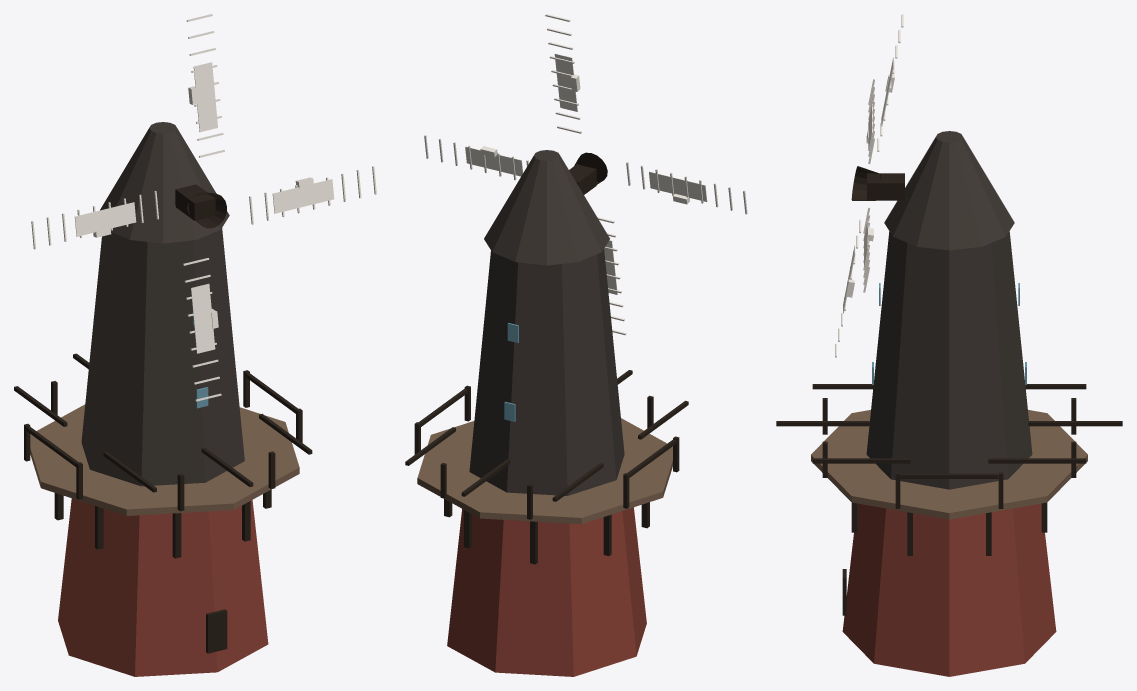
File: windmill-de-gooyer.glb
The picture shows the model from 3 angles, left to right: view 1: azimuth 30°, elevation 25°; view 2: azimuth 150°, elevation 25°; view 3: azimuth 270°, elevation 25°; orthographic projection. The views are drawn at different scales.
Parts seen in each view (by area): view 1: ThatchBody, BrickBase, GalleryFloor, CapRoof, SailsLattice, GalleryRail, GalleryStruts, ShaftHousing, MainDoor, SailHub; view 2: ThatchBody, BrickBase, GalleryFloor, CapRoof, SailsLattice, GalleryRail, GalleryStruts, ShaftHousing; view 3: ThatchBody, BrickBase, GalleryFloor, CapRoof, GalleryRail, SailsLattice, ShaftHousing, GalleryStruts, SailHub.
Part boxes in pixels (x1=…): ThatchBody: x1=81, y1=228, x2=244, y2=486; BrickBase: x1=58, y1=498, x2=268, y2=676; GalleryFloor: x1=30, y1=404, x2=299, y2=515; CapRoof: x1=100, y1=122, x2=229, y2=243; SailsLattice: x1=31, y1=14, x2=376, y2=401; GalleryRail: x1=14, y1=353, x2=312, y2=511; GalleryStruts: x1=54, y1=489, x2=271, y2=558; ShaftHousing: x1=175, y1=184, x2=215, y2=220; MainDoor: x1=206, y1=609, x2=227, y2=653; SailHub: x1=187, y1=192, x2=226, y2=228; ThatchBody: x1=469, y1=249, x2=624, y2=495; BrickBase: x1=447, y1=507, x2=646, y2=676; GalleryFloor: x1=417, y1=418, x2=672, y2=524; CapRoof: x1=484, y1=150, x2=609, y2=265; SailsLattice: x1=424, y1=14, x2=747, y2=335; GalleryRail: x1=405, y1=370, x2=688, y2=519; GalleryStruts: x1=444, y1=499, x2=649, y2=564; ShaftHousing: x1=569, y1=164, x2=596, y2=194; ThatchBody: x1=866, y1=231, x2=1032, y2=489; BrickBase: x1=842, y1=503, x2=1056, y2=676; GalleryFloor: x1=811, y1=410, x2=1087, y2=519; CapRoof: x1=884, y1=131, x2=1014, y2=250; GalleryRail: x1=776, y1=384, x2=1122, y2=508; SailsLattice: x1=835, y1=14, x2=903, y2=357; ShaftHousing: x1=867, y1=173, x2=904, y2=200; GalleryStruts: x1=851, y1=502, x2=1047, y2=555; SailHub: x1=851, y1=166, x2=880, y2=200.
Size of the model in its own units: 9.72 by 17.22 by 8.75.
